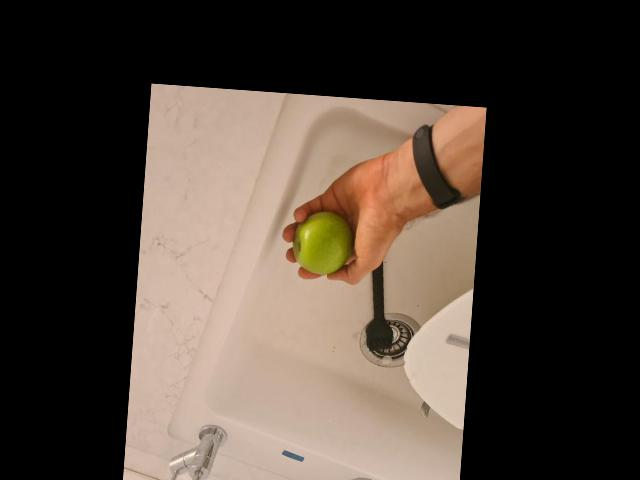apple: (290, 207, 353, 276)
